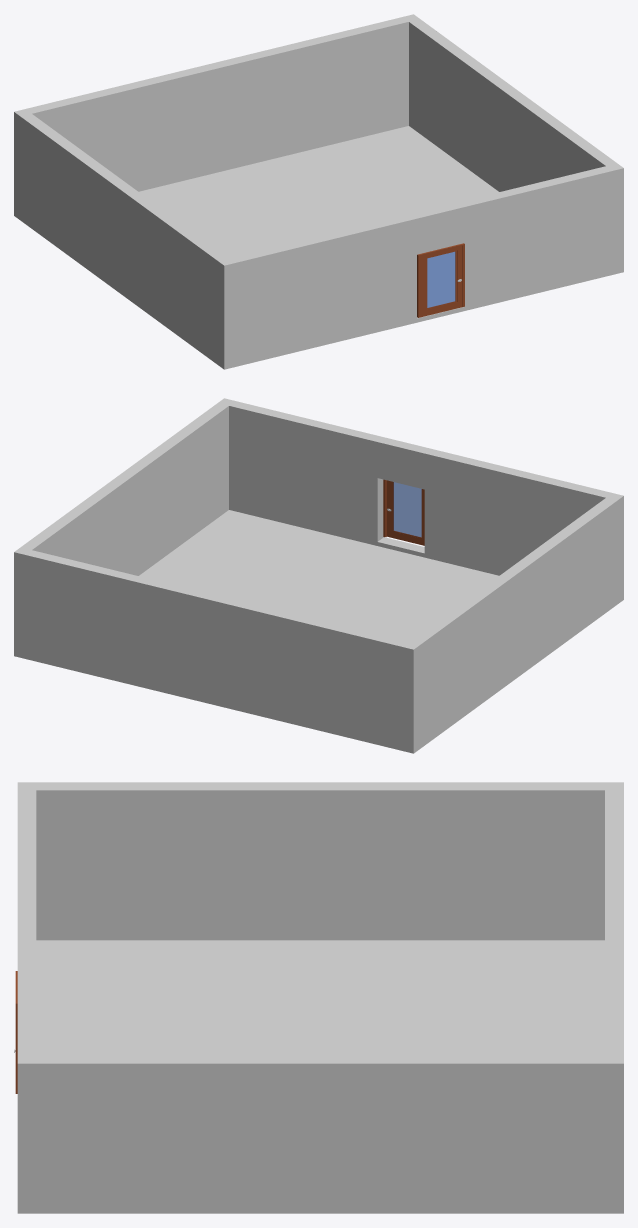
The model's file is murat3.dae.
3 views of the same model, one above another, from view 1: azimuth 30°, elevation 25°; view 2: azimuth 150°, elevation 25°; view 3: azimuth 270°, elevation 25° (orthographic). The views are drawn at different scales.
Visible parts, largest first — view 1: skpF77D (×3), Component (×3); view 2: skpF77D (×4), Component (×2); view 3: skpF77D (×3).
Part boxes in pixels (x1,y1,x2,y2): skpF77D (×3): [14, 14, 623, 369]; Component (×3): [417, 243, 464, 317]; skpF77D (×4): [14, 398, 623, 753]; Component (×2): [387, 480, 424, 545]; skpF77D (×3): [17, 782, 623, 1213].
Size of the model in its own units: 155 by 142 by 38.58.
